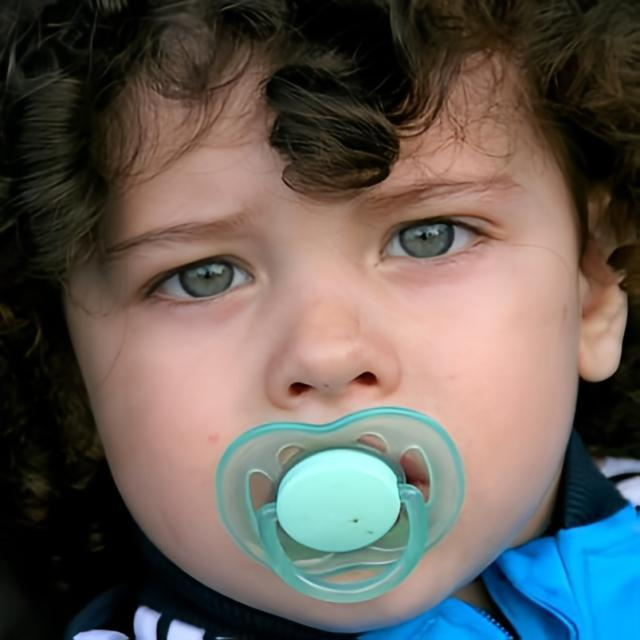sad: (67, 49, 578, 632)
